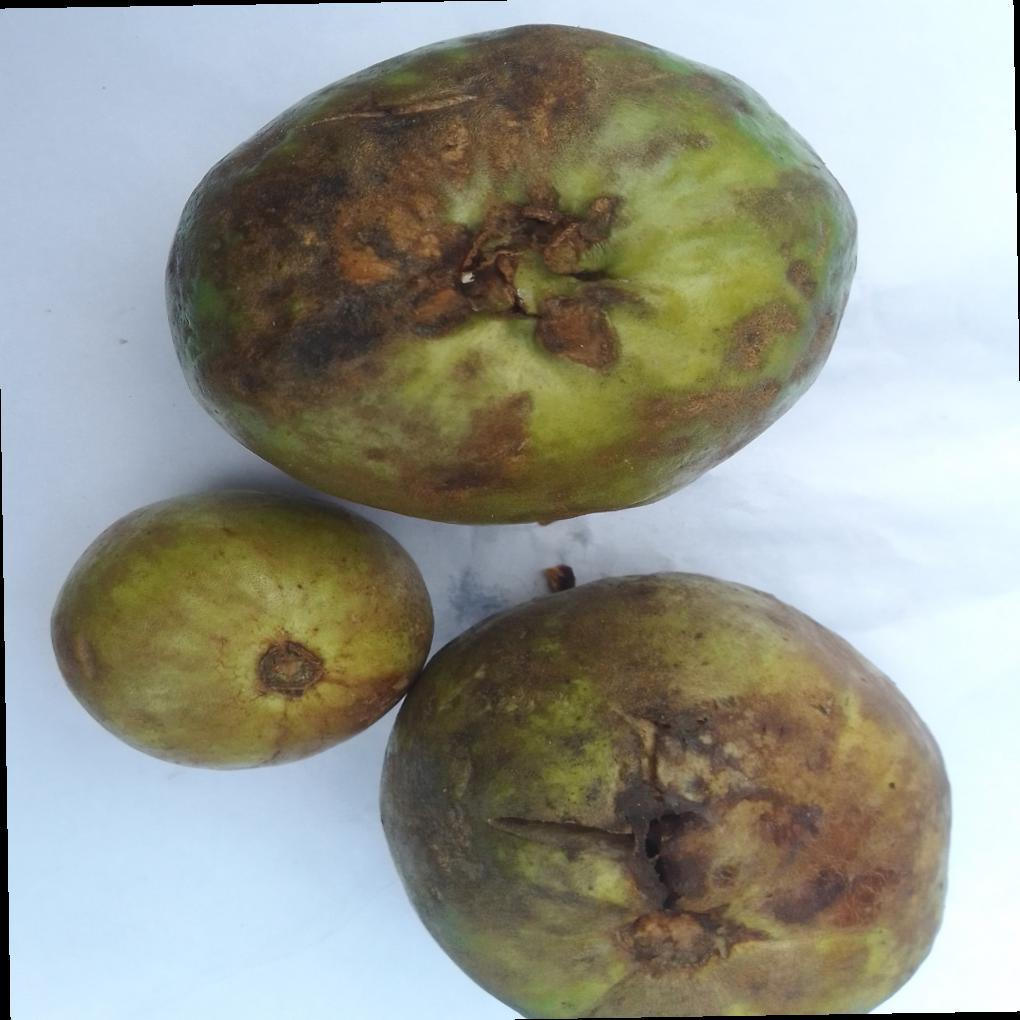FreshOrange: (48, 24, 954, 1019)
